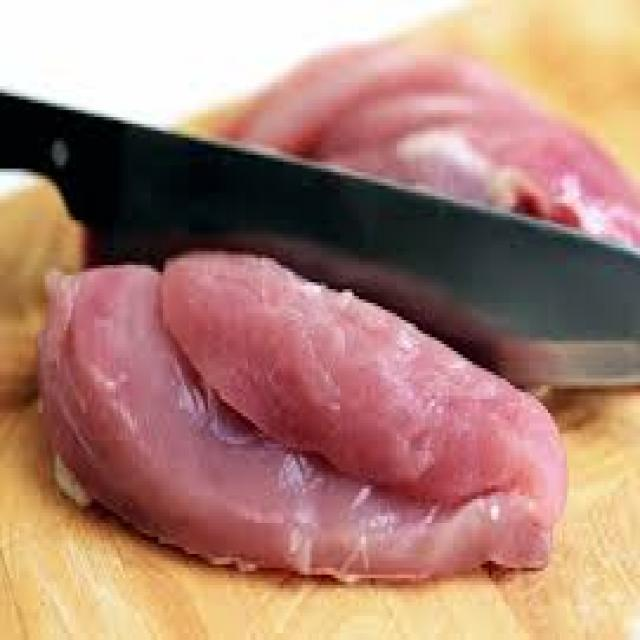chicken: (31, 245, 571, 581), (223, 37, 640, 263)
